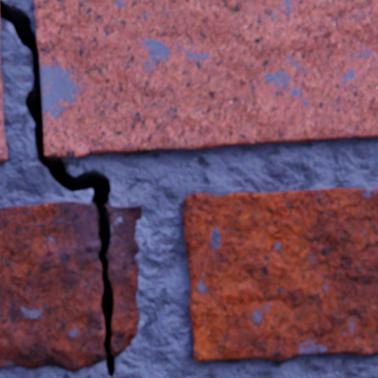brick: (34, 0, 377, 157), (182, 187, 377, 360), (0, 47, 7, 163)
broken_brick: (0, 201, 105, 371), (105, 205, 141, 356)
crack: (0, 1, 114, 376)
